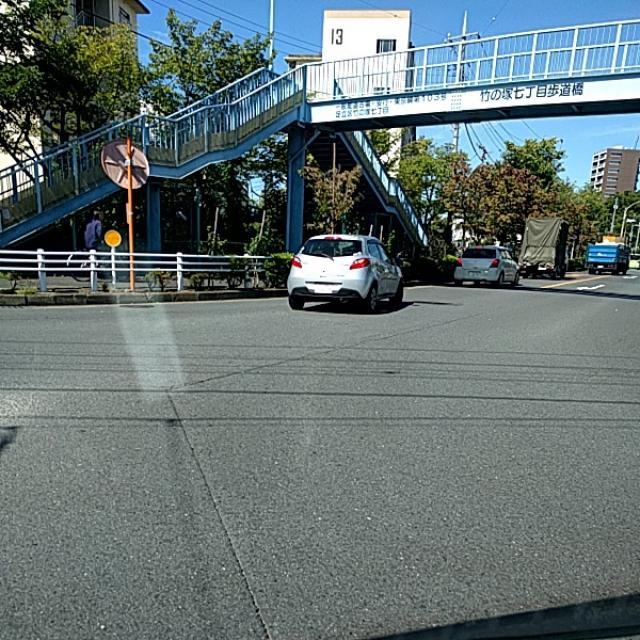pothole: (182, 447, 244, 546)
